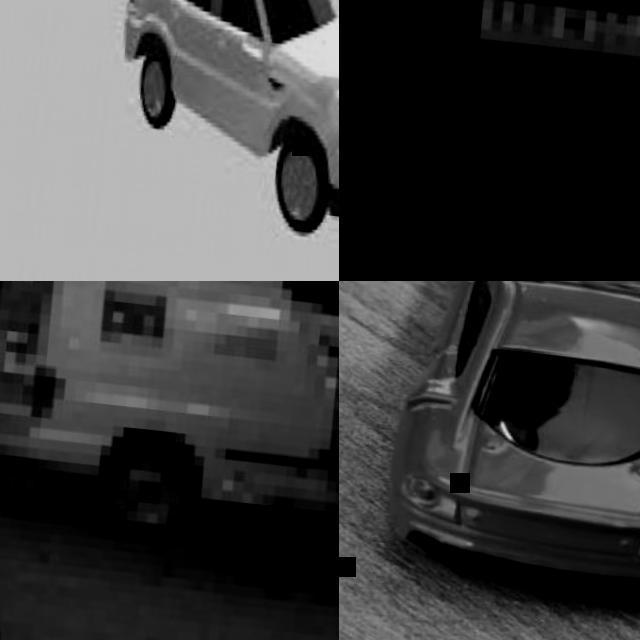car: (384, 286, 639, 615), (126, 0, 339, 230)
